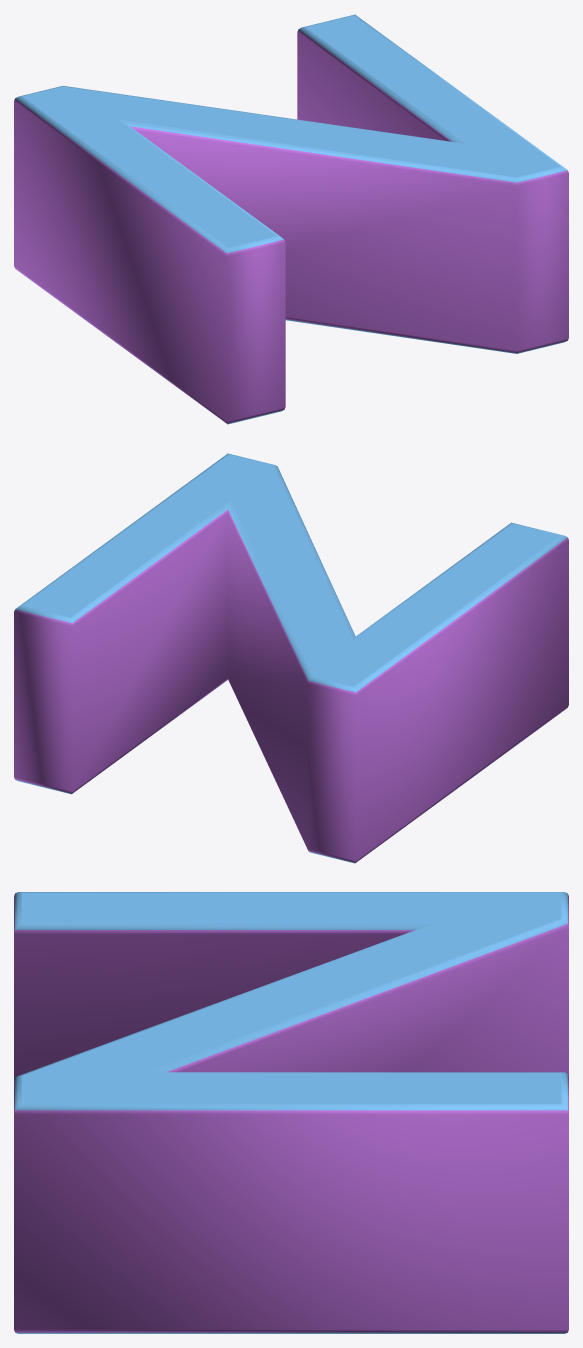
The model's file is letter_N.fbx.
3 views of the same model, one above another, from view 1: azimuth 30°, elevation 25°; view 2: azimuth 150°, elevation 25°; view 3: azimuth 270°, elevation 25° (orthographic). The views are drawn at different scales.
Parts seen in each view (by area): view 1: Letter_N; view 2: Letter_N; view 3: Letter_N.
Boxes of the visible parts, box(x1,y1,x2,y2) form: Letter_N: box(14, 14, 568, 424); Letter_N: box(14, 453, 568, 863); Letter_N: box(14, 892, 568, 1333).
Bounding box in the file's own units: 65.2 × 32 × 70.2.
